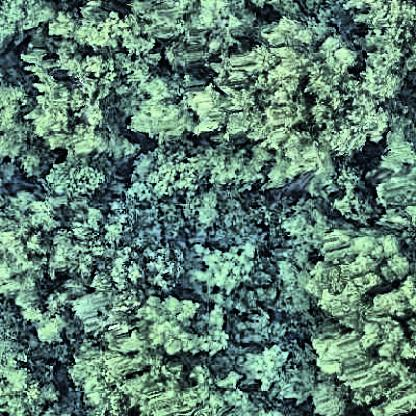tree-top: (191, 20, 383, 184), (309, 216, 416, 414), (29, 10, 155, 158), (129, 282, 239, 377), (133, 1, 260, 68), (189, 238, 274, 312), (361, 1, 416, 105), (51, 202, 119, 283), (130, 149, 195, 232), (139, 366, 241, 416), (241, 335, 313, 405), (94, 242, 180, 299), (1, 201, 49, 300), (27, 150, 121, 200), (196, 188, 273, 249), (378, 111, 416, 223), (133, 73, 189, 146), (76, 350, 140, 413), (1, 351, 62, 416), (1, 72, 38, 163), (1, 1, 56, 56), (337, 163, 383, 227)
